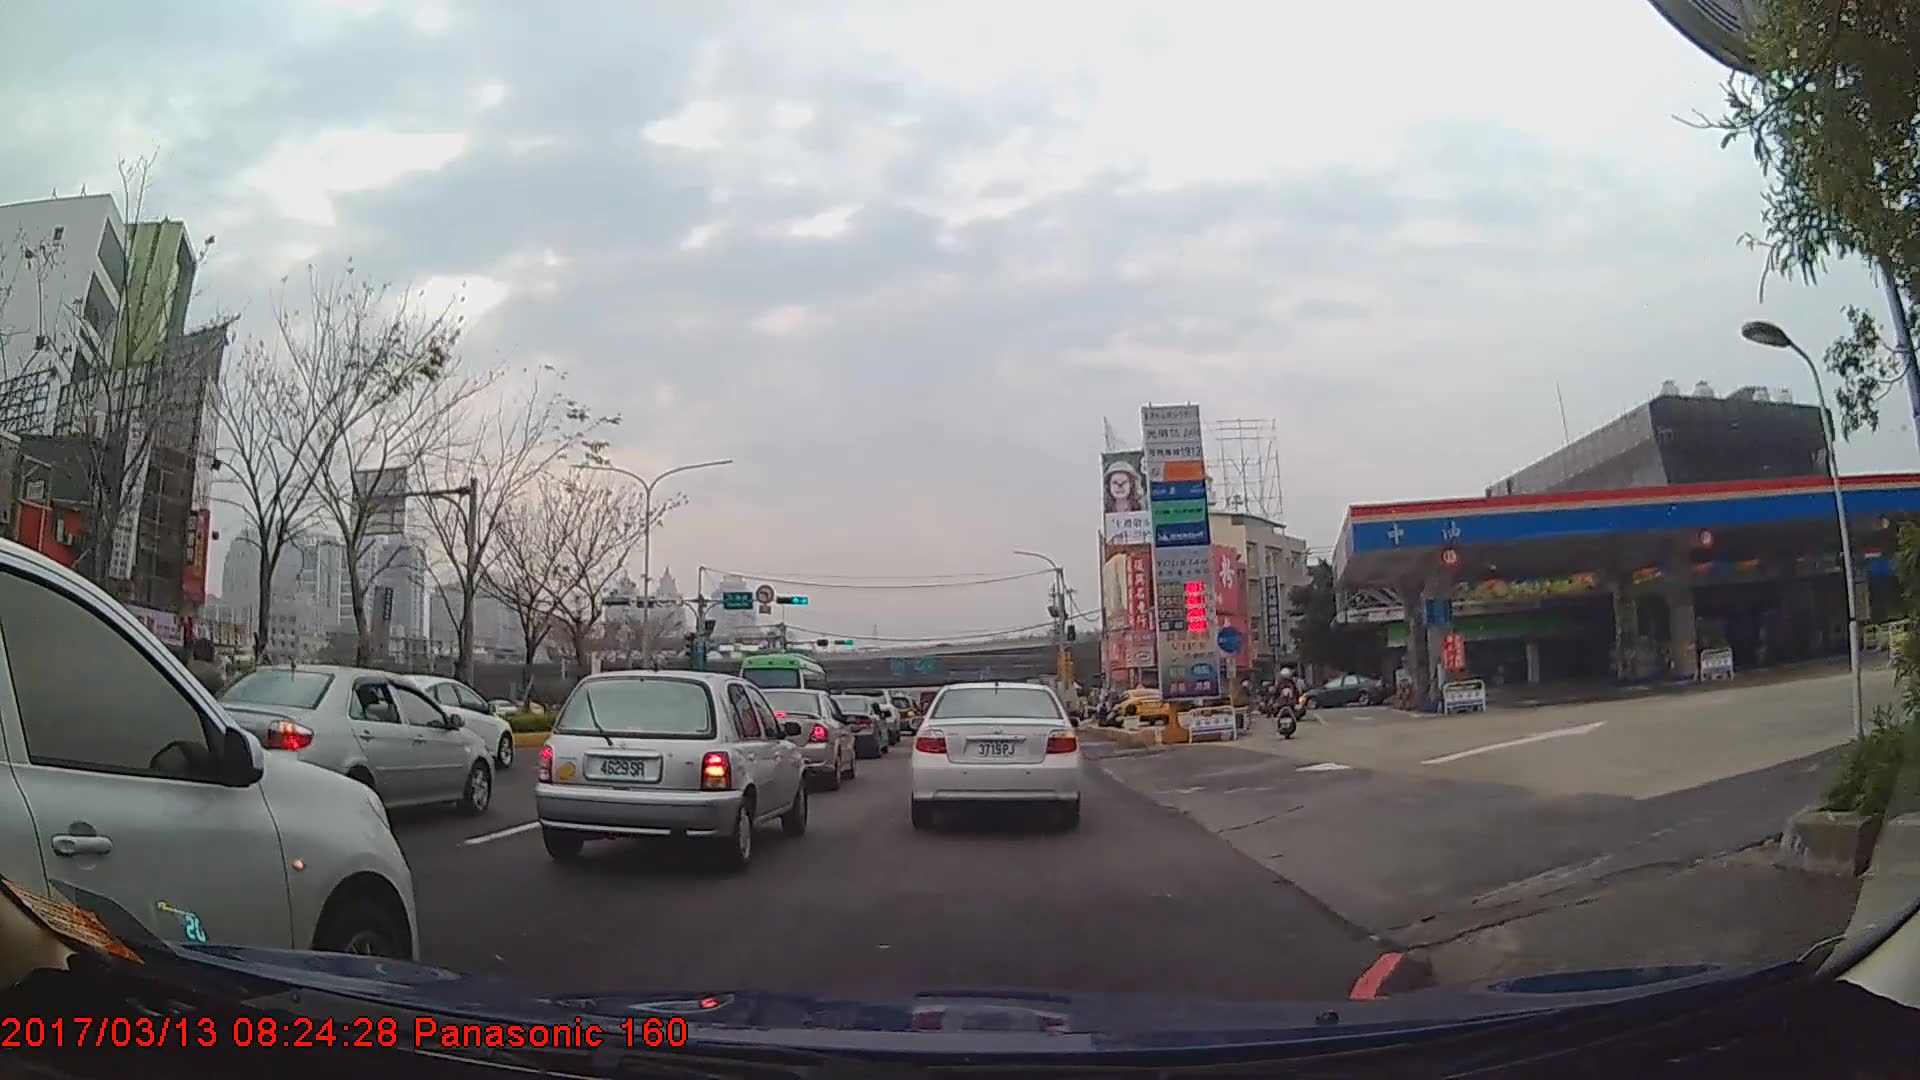rider: (1279, 667, 1300, 738), (1283, 670, 1306, 721)
vehicle: (0, 539, 415, 1018), (533, 669, 807, 869), (184, 661, 492, 817), (910, 676, 1080, 831), (343, 673, 516, 768), (729, 685, 857, 794), (731, 649, 826, 727), (809, 694, 888, 757), (1294, 674, 1388, 711), (1113, 686, 1170, 725)
